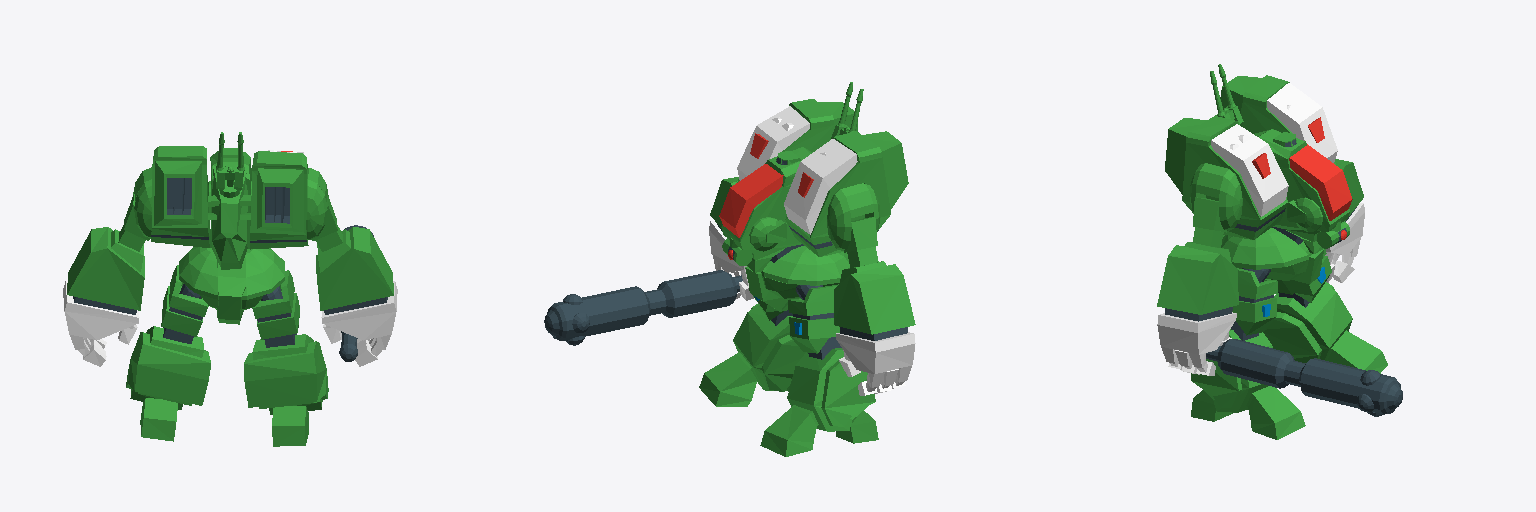
3 views of the same model, side by side, from view 1: azimuth 30°, elevation 25°; view 2: azimuth 150°, elevation 25°; view 3: azimuth 270°, elevation 25° (orthographic).
Parts seen in each view (by area): view 1: group[number redacted], group[number redacted], group[number redacted], group[number redacted], group[number redacted], group[number redacted], group[number redacted], group[number redacted], group[number redacted], group[number redacted], group[number redacted], group[number redacted] (+1 smaller); view 2: group[number redacted], group[number redacted], group[number redacted], group[number redacted], group[number redacted], group[number redacted], group[number redacted], group[number redacted], group[number redacted], group[number redacted], group[number redacted], group[number redacted] (+4 smaller); view 3: group[number redacted], group[number redacted], group[number redacted], group[number redacted], group[number redacted], group[number redacted], group[number redacted], group[number redacted], group[number redacted], group[number redacted], group[number redacted], group[number redacted] (+5 smaller).
Part boxes in pixels (x1,y1,x2,y2): group[number redacted]: (306, 168, 397, 366); group[number redacted]: (63, 167, 151, 366); group[number redacted]: (244, 270, 328, 446); group[number redacted]: (126, 265, 210, 441); group[number redacted]: (179, 247, 284, 310); group[number redacted]: (154, 161, 201, 225); group[number redacted]: (257, 168, 303, 231); group[number redacted]: (151, 146, 209, 247); group[number redacted]: (212, 165, 247, 269); group[number redacted]: (250, 151, 308, 249); group[number redacted]: (216, 276, 245, 324); group[number redacted]: (216, 132, 244, 197); group[number redacted]: (827, 183, 915, 395); group[number redacted]: (760, 284, 878, 456); group[number redacted]: (544, 270, 742, 345); group[number redacted]: (699, 288, 805, 406); group[number redacted]: (785, 131, 890, 256); group[number redacted]: (784, 139, 857, 234); group[number redacted]: (761, 246, 849, 298); group[number redacted]: (721, 147, 811, 272); group[number redacted]: (737, 106, 809, 180); group[number redacted]: (719, 164, 783, 237); group[number redacted]: (709, 177, 753, 300); group[number redacted]: (863, 131, 908, 209); group[number redacted]: (1157, 163, 1242, 375); group[number redacted]: (1191, 268, 1305, 439); group[number redacted]: (1206, 339, 1402, 416); group[number redacted]: (1263, 249, 1387, 373); group[number redacted]: (1182, 116, 1287, 239); group[number redacted]: (1211, 124, 1288, 216); group[number redacted]: (1221, 228, 1311, 280); group[number redacted]: (1267, 83, 1337, 162); group[number redacted]: (1258, 129, 1349, 253); group[number redacted]: (1289, 144, 1352, 220); group[number redacted]: (1325, 159, 1364, 282); group[number redacted]: (1240, 75, 1335, 164).
Bounding box in the file's own units: 3.47 × 3.14 × 2.18.